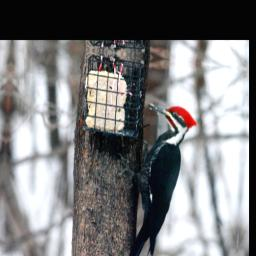Woodpecker: (109, 95, 198, 256)
